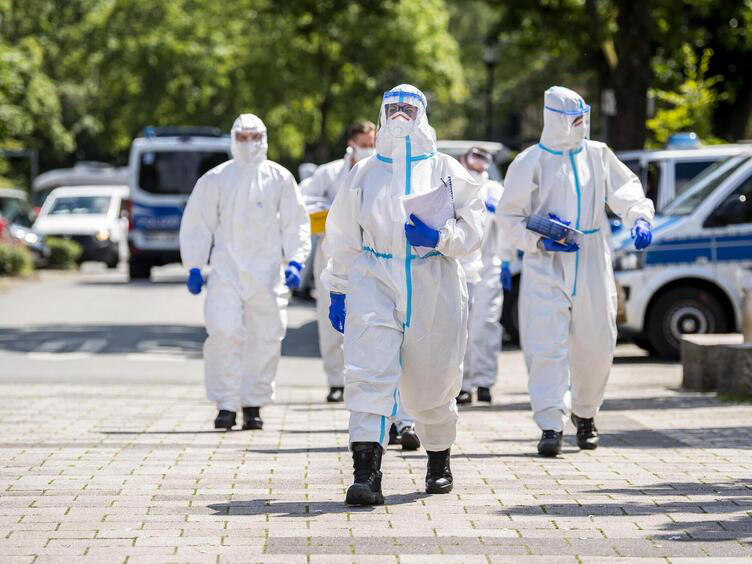Coverall: (322, 80, 484, 452), (497, 85, 656, 426), (177, 113, 313, 411)
Gloves: (401, 214, 441, 253), (280, 253, 309, 293), (326, 289, 348, 333), (183, 256, 206, 298), (628, 215, 653, 250)
mask_weared_incorrect: (233, 128, 264, 164)
with_mask: (385, 114, 416, 137)
